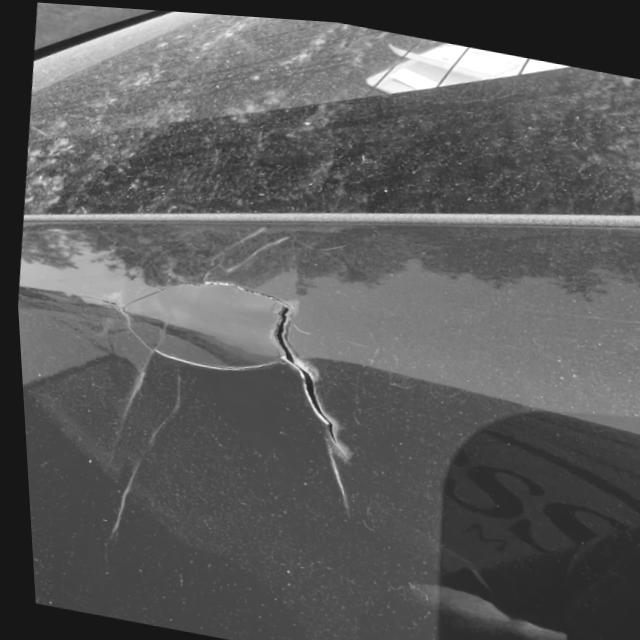Paint-Crack: (108, 272, 362, 505)
